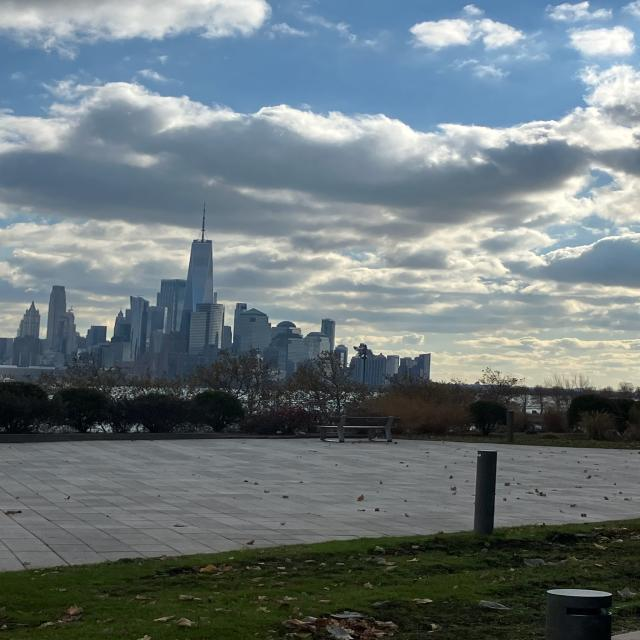WTC: (186, 205, 214, 305)
